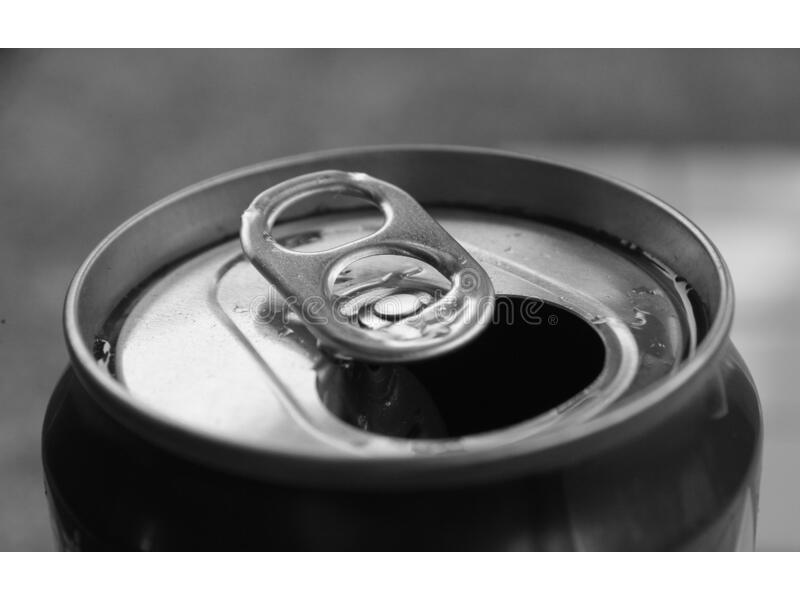can: (51, 138, 767, 503)
